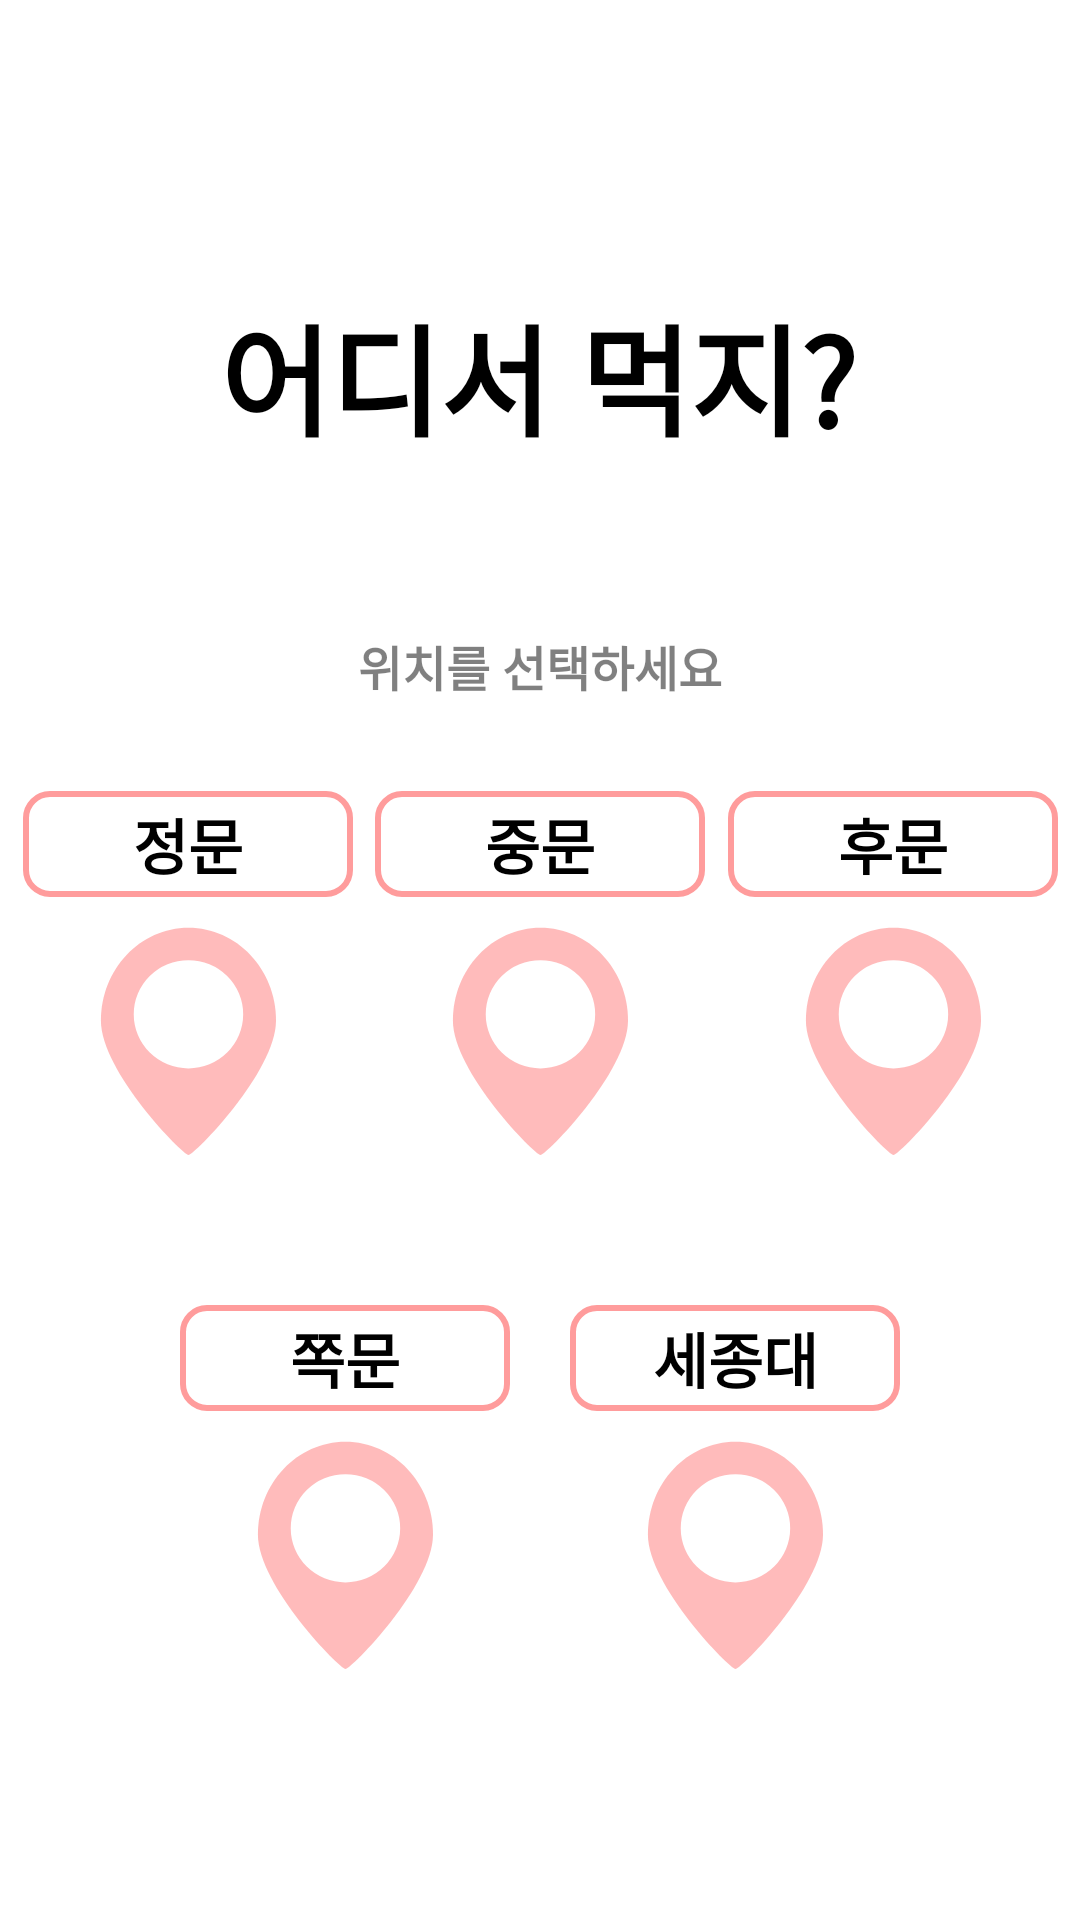

Icon bounding boxes for this 1080px x 1920px phone screenshot, format [x1, y1, x2, y2]:
location mark: [101, 928, 276, 1155], [453, 928, 628, 1155], [806, 928, 981, 1155], [258, 1442, 433, 1669], [648, 1442, 823, 1669]
